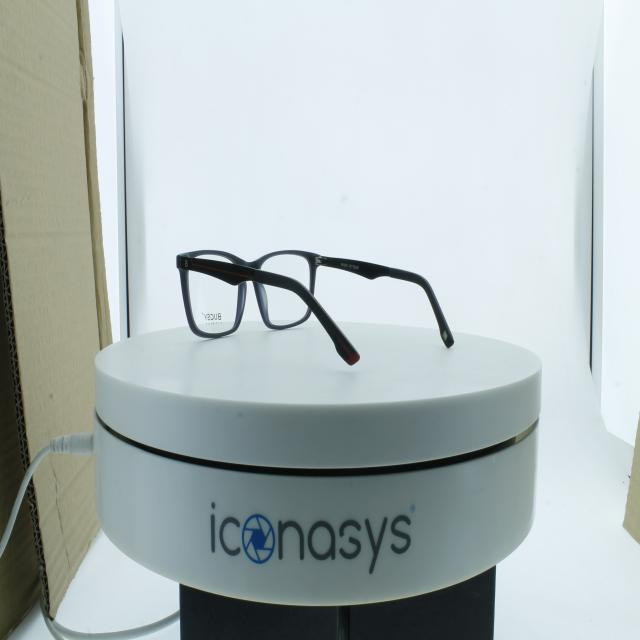Specs: (163, 218, 460, 384)
